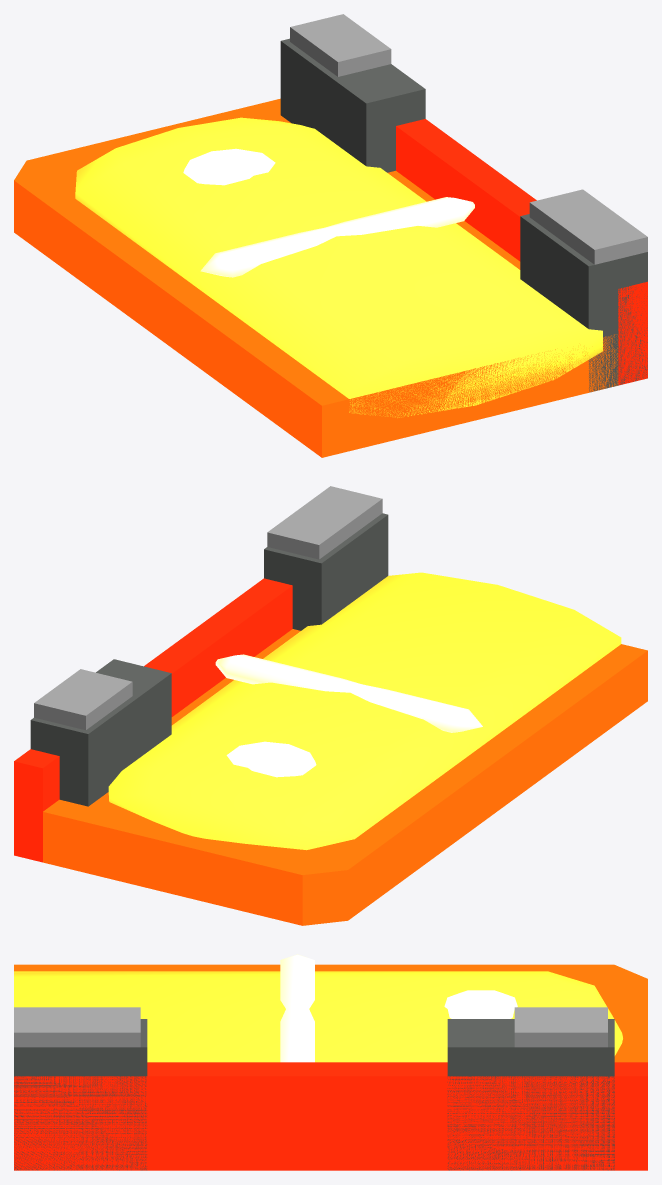
The model's file is newsha-1.glb.
3 views of the same model, one above another, from view 1: azimuth 30°, elevation 25°; view 2: azimuth 150°, elevation 25°; view 3: azimuth 270°, elevation 25° (orthographic). The views are drawn at different scales.
Parts seen in each view (by area): view 1: newsha-1; view 2: newsha-1; view 3: newsha-1.
Boxes of the visible parts, <box> form: newsha-1: <box>14,14,647,457</box>; newsha-1: <box>14,486,647,925</box>; newsha-1: <box>14,954,647,1170</box>.
Size of the model in its own units: 0.9167 by 0.38 by 1.58.
